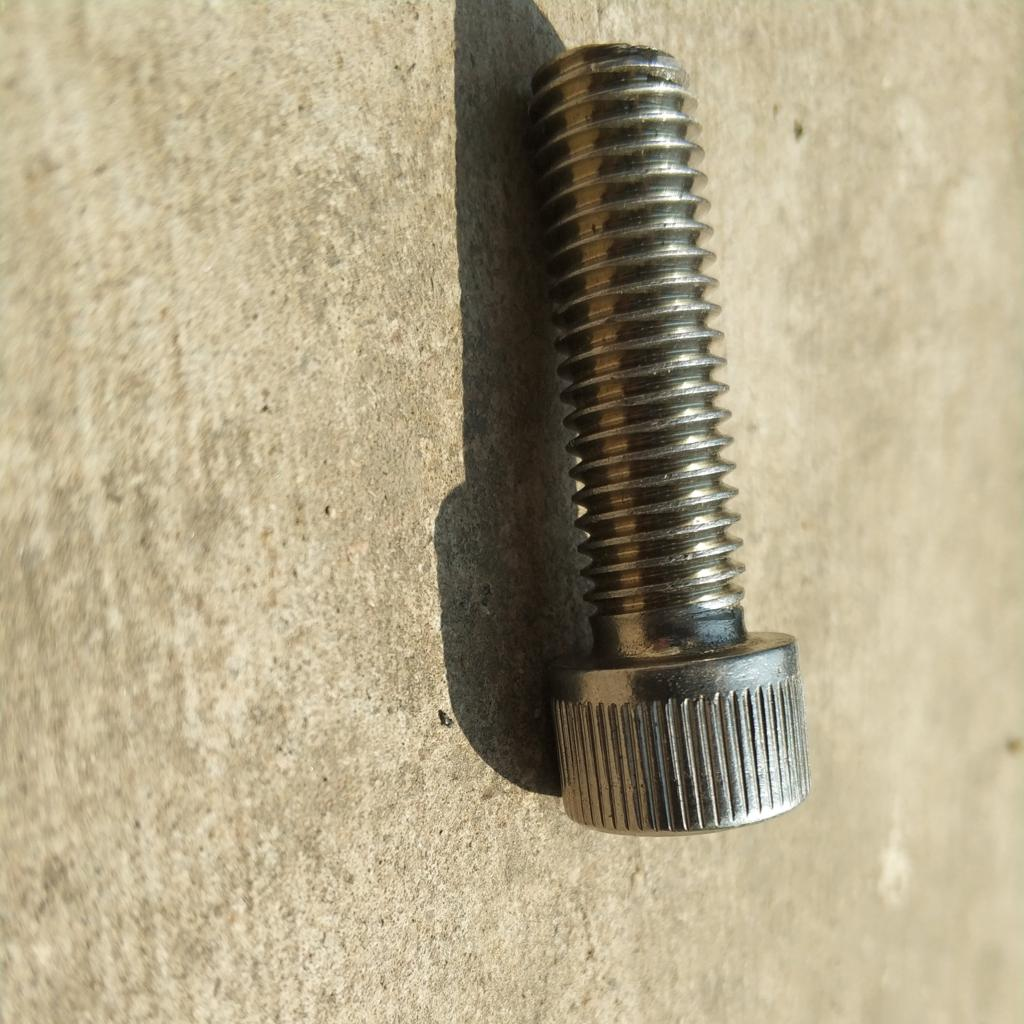screwtype1silver: (518, 36, 822, 839)
